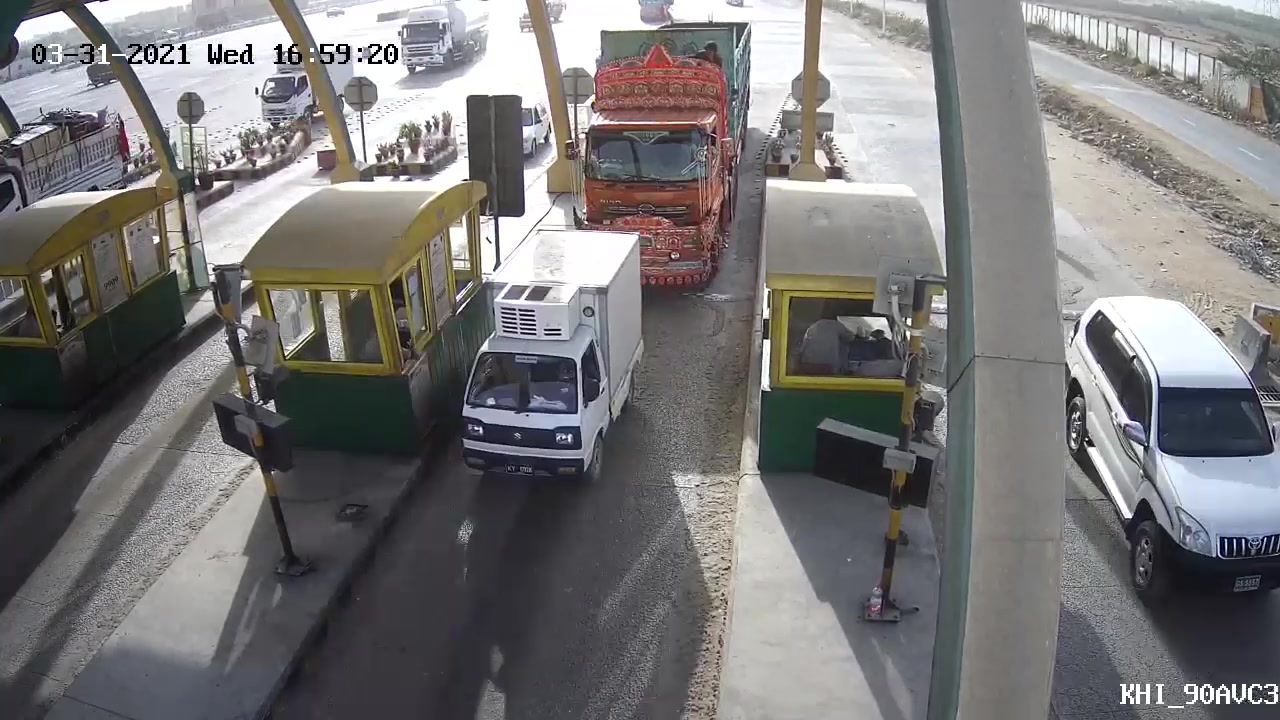F1: (431, 226, 660, 487)
F5: (578, 10, 754, 286)
